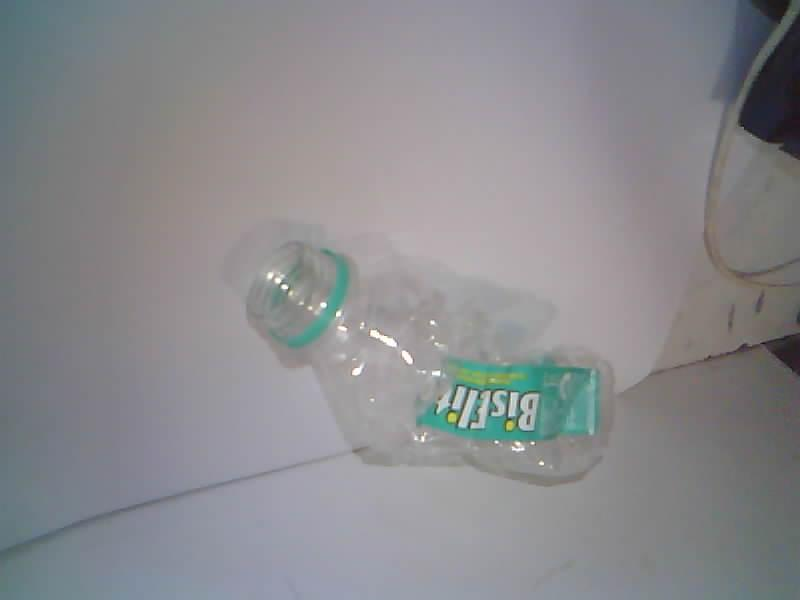non-biodegradable: (246, 243, 612, 484)
